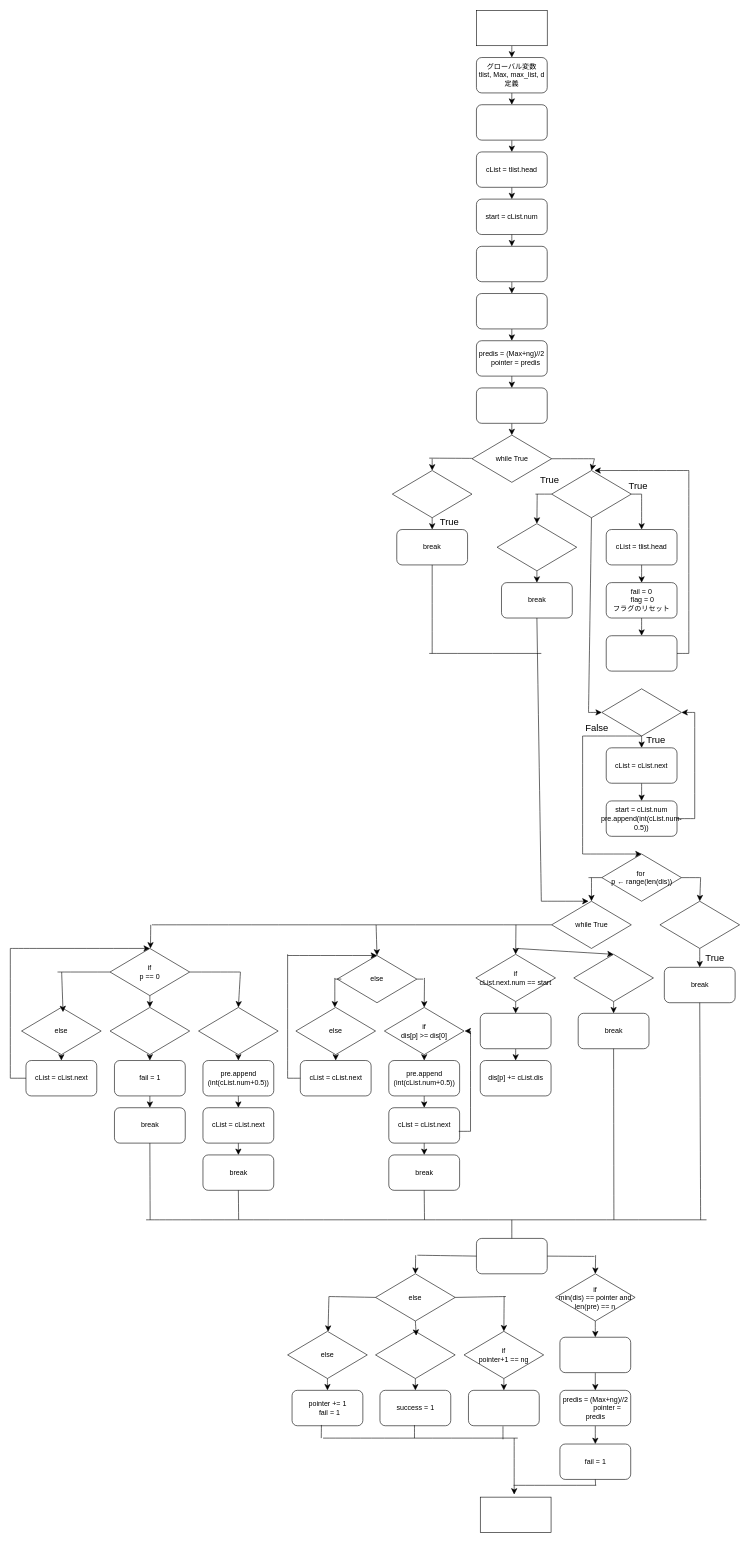
This 750x1543 diagram has some shape labels left out. The shapes that lost their labels are listed below. From the top down, each one's centre as x and y in pixels, then its label:
pixel 511 28: 関数 twosearch(n:int) 開始
pixel 511 122: Sum = 0 flag = 0
pixel 511 264: Sum = sum(d)を格納
pixel 511 311: Max = min(d)-1 ng = (Sum//n) + 1
pixel 511 405: success = 0 fail = 1 と初期値設定
pixel 432 494: if seccess = 1
pixel 591 494: for i ←range(len(d))
pixel 536 547: if fail == 0
pixel 641 653: pre = [] dis = [0] * n リストの作成
pixel 641 712: if j ←range(0,i,1)
pixel 699 924: if fail == 1
pixel 613 978: if flag == 1
pixel 149 1031: elif dis[p] > pointer
pixel 238 1031: if dis[p] == pointer
pixel 515 1031: flag = 1
pixel 511 1256: pre.pop()
pixel 415 1355: elif pointer+1 == predis
pixel 595 1355: Max = pointer max_list = copy.copy(pre)
pixel 503 1408: pointer = Max+1 fail = 1
pixel 515 1515: 終了
